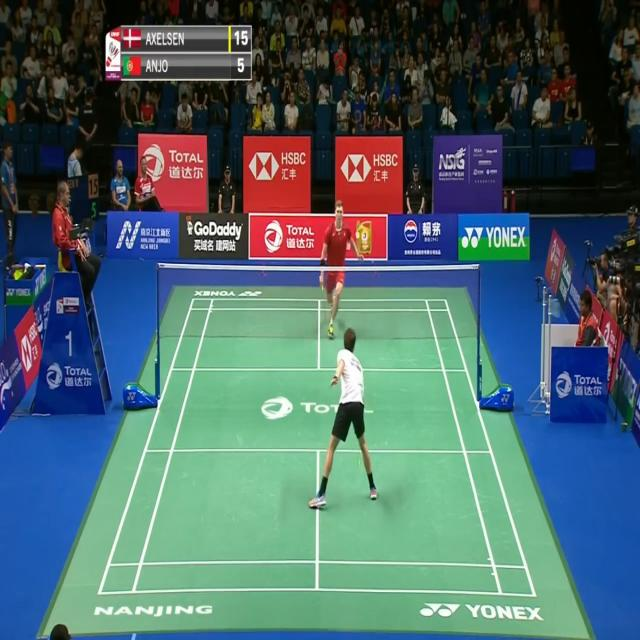Player1: (306, 320, 386, 524)
Player2: (315, 190, 362, 350)
